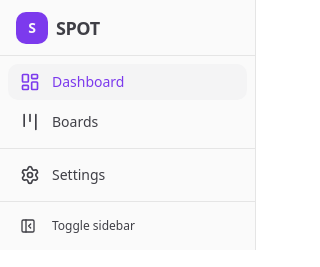
Test case: Sidebar › expands back on second toggle click
Click the button with id "sidebar-toggle" at (128, 226), box [8,210,247,242]
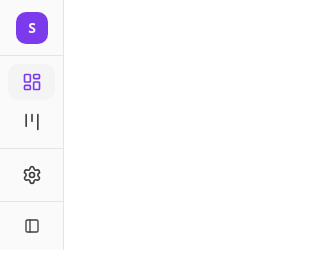
Click the button with id "sidebar-toggle" at (32, 226), box [8,210,55,242]
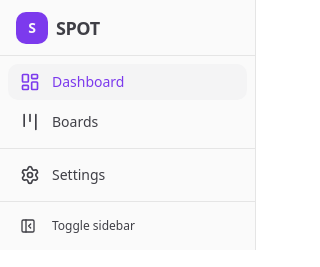
Now the text "SPOT" is shown, box [56,14,100,42]
Now the text "Dashboard" is shown, box [52,72,124,92]
